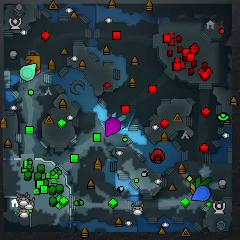p1: (191, 185, 211, 201)
p2: (20, 63, 36, 81)
p3: (106, 117, 122, 137)
p5: (191, 188, 196, 196)
x1: (36, 69, 41, 75)
x2: (190, 182, 197, 191)
x3: (112, 112, 126, 129)
x4: (195, 176, 211, 188)
x5: (25, 56, 41, 70)
